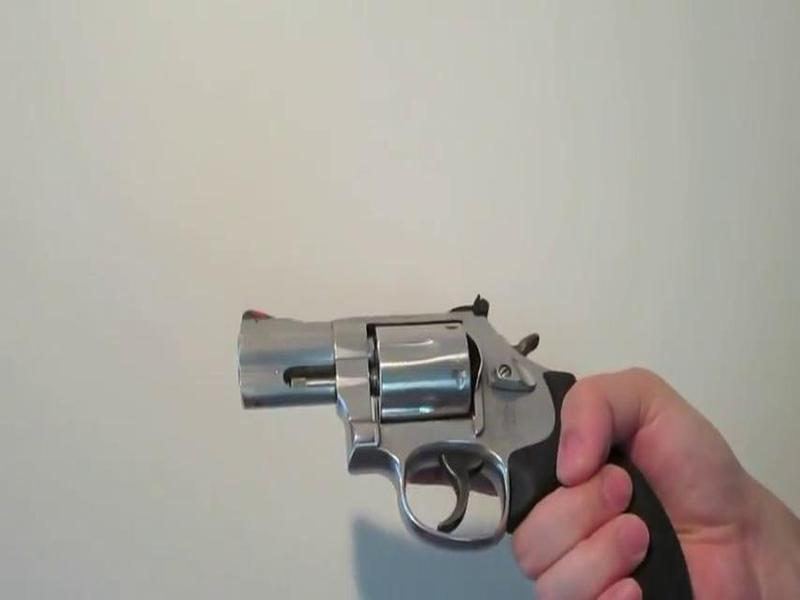Revolver: (210, 255, 749, 599)
